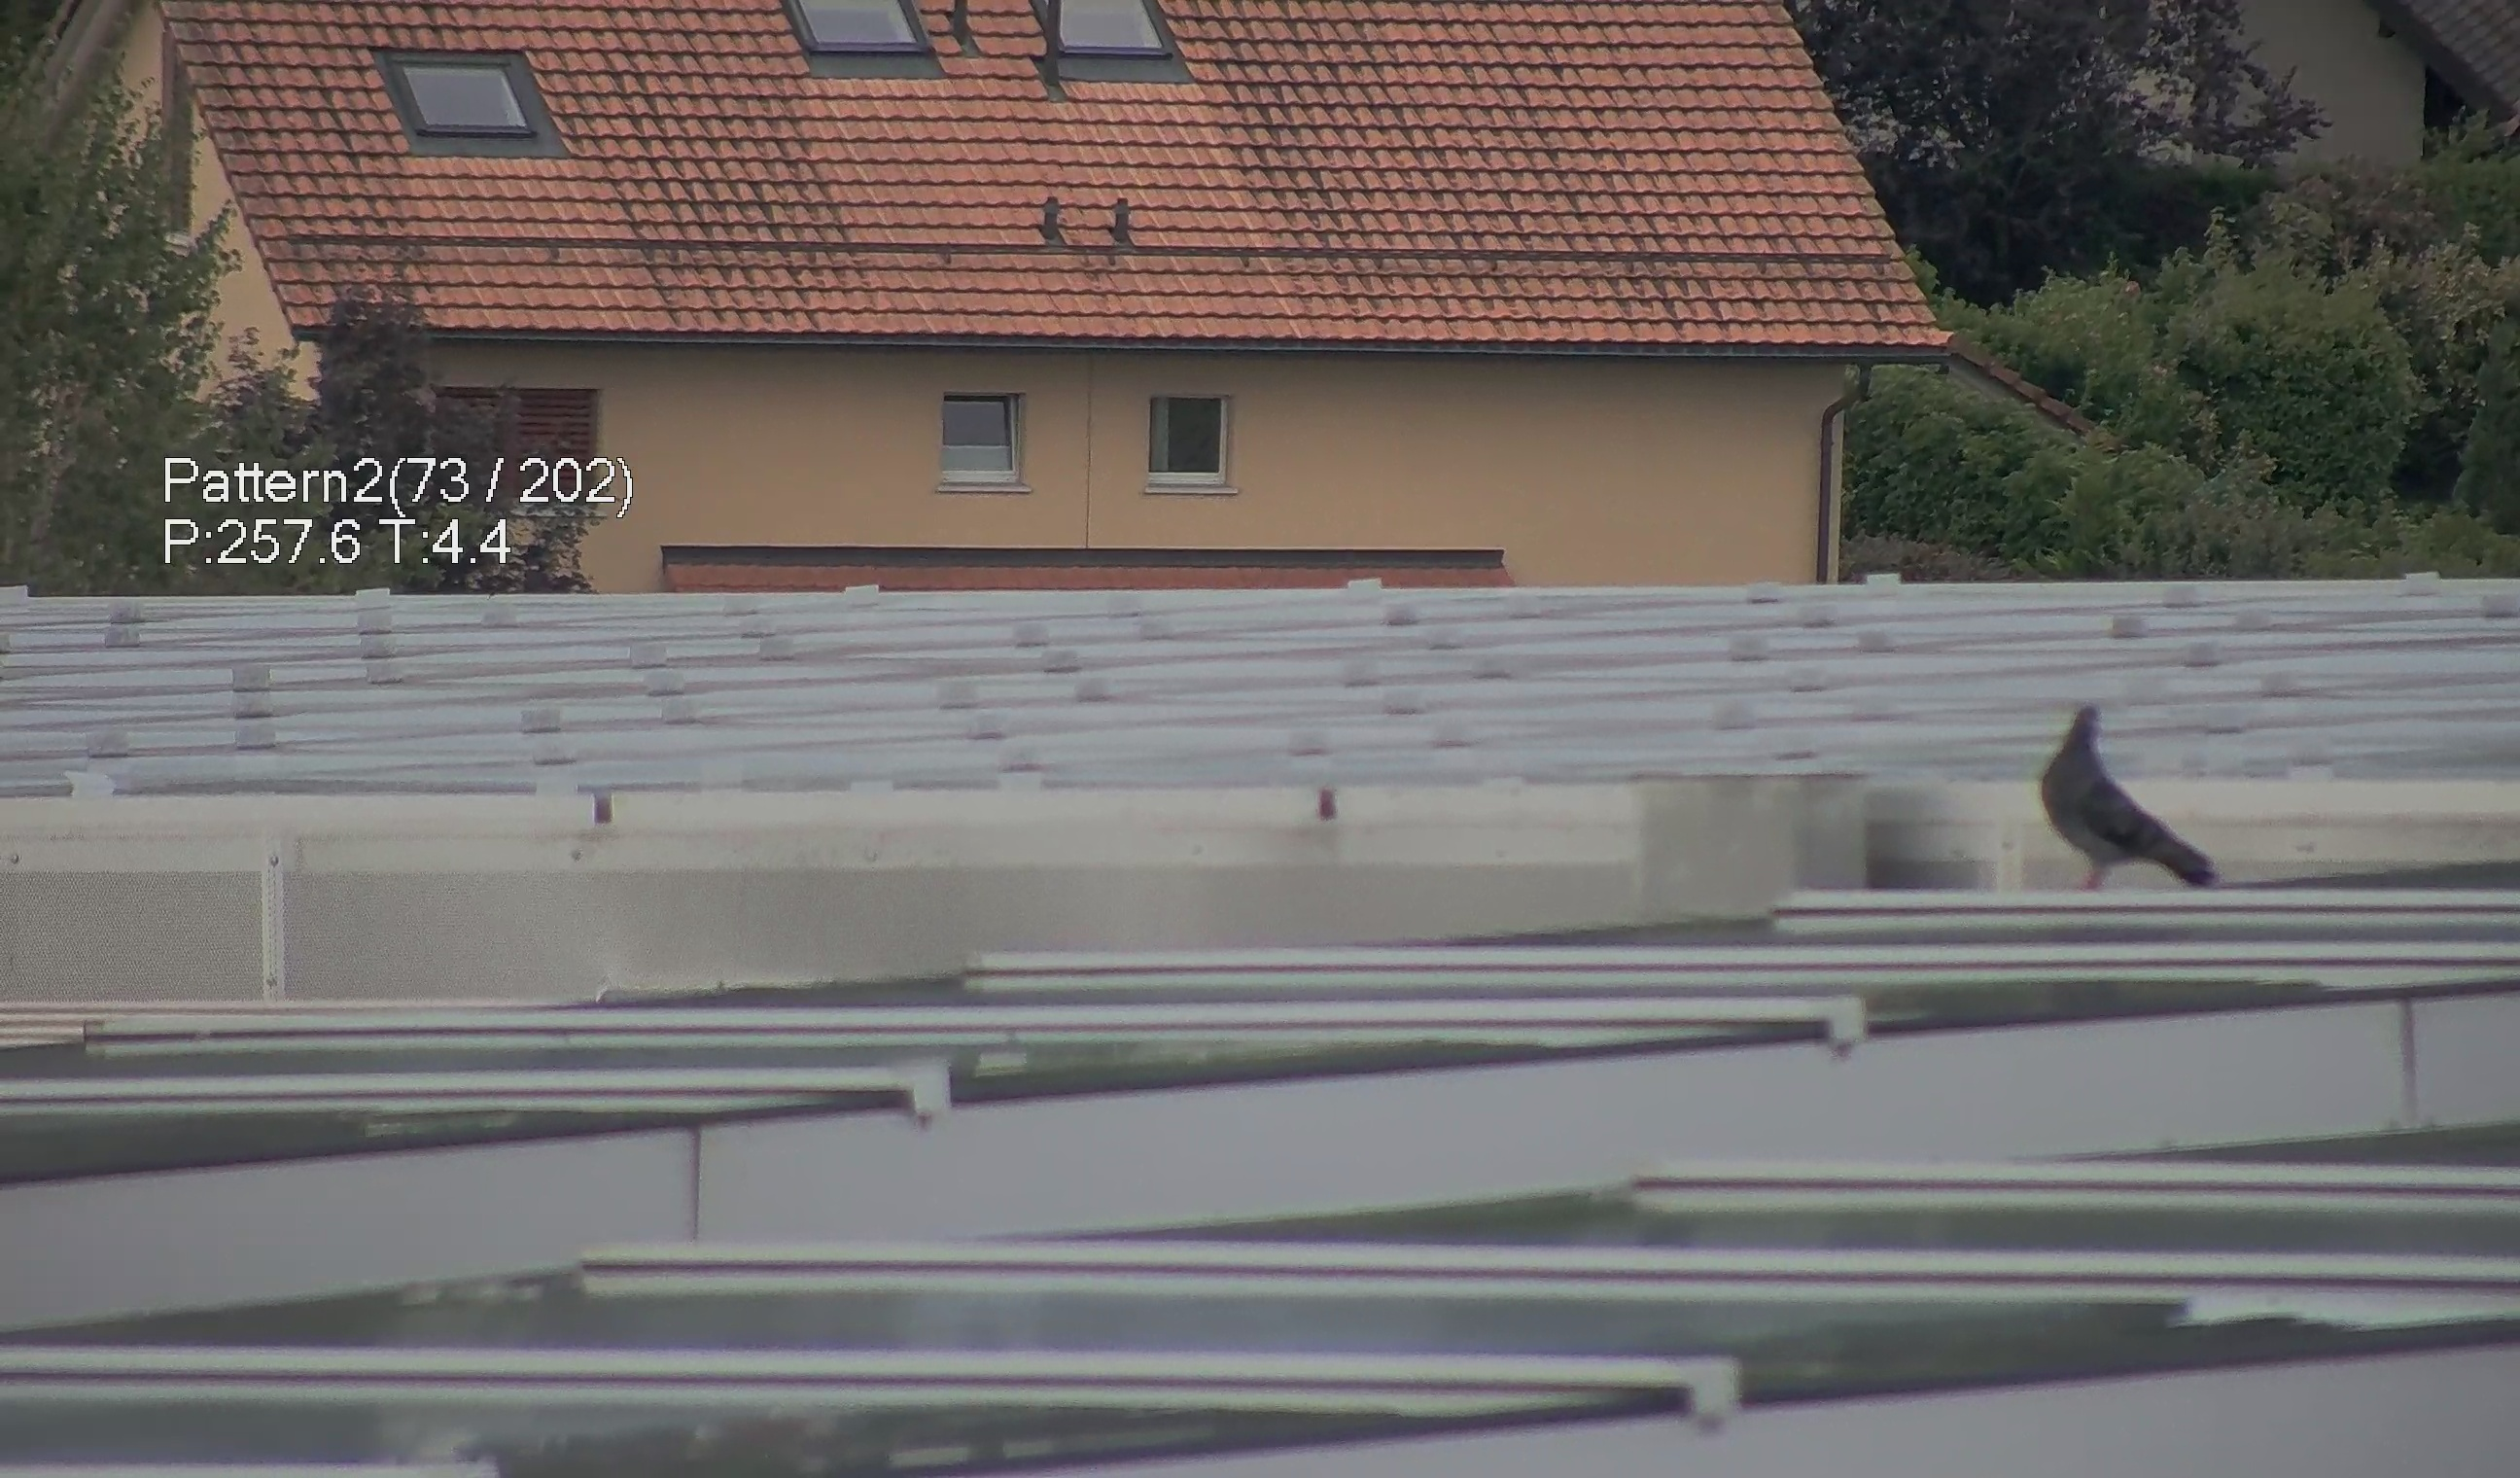Pigeon: (2038, 697, 2228, 911)
